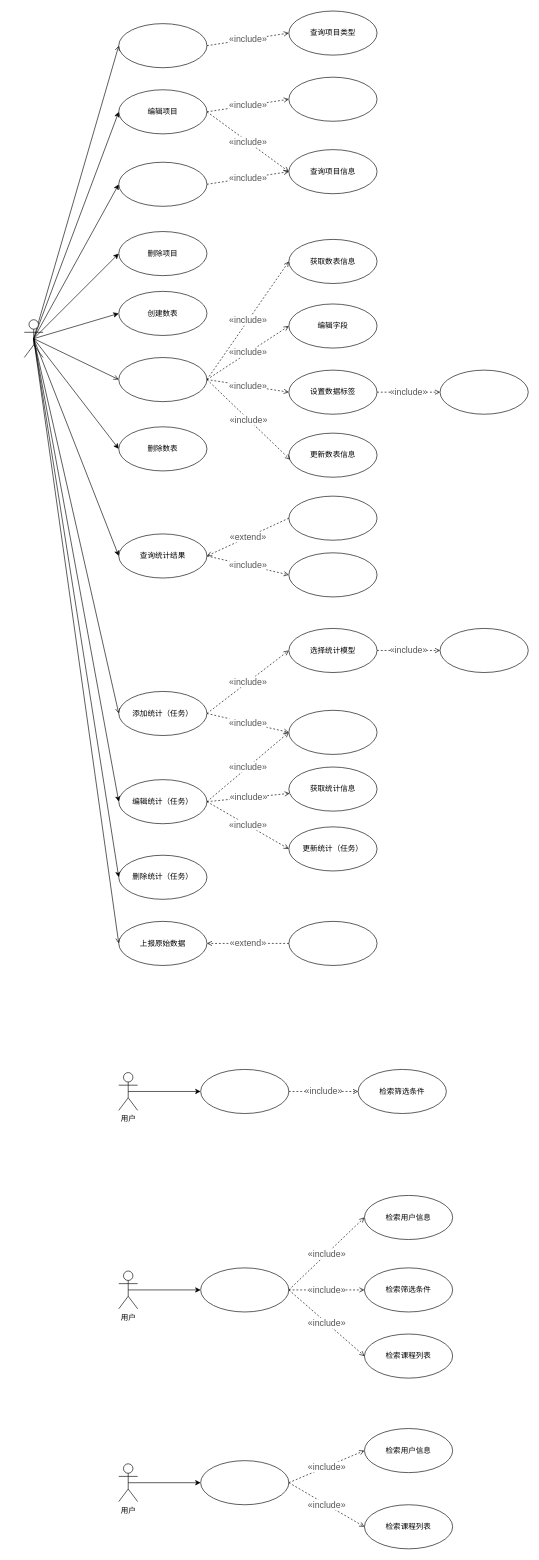
Image size: 539x1560. Some labels were removed from this diagram. Each missing label, with the box of its shape:
创建项目: (118, 23, 207, 68)
搜索「我的授课」: (200, 1460, 289, 1505)
更新项目信息: (288, 77, 377, 121)
查询统计数据: (288, 552, 377, 597)
浏览「我的授课」: (200, 1267, 289, 1312)
租户（用户）: (24, 319, 43, 358)
编辑数表: (118, 357, 207, 402)
编辑统计规则: (288, 710, 377, 754)
获取上报物料: (288, 921, 377, 965)
获取数据标签列表: (439, 369, 528, 414)
获取统计模型列表: (439, 628, 528, 673)
获取项目信息: (118, 162, 207, 206)
设置筛选条件: (288, 495, 377, 540)
配置筛选条件: (200, 1069, 289, 1114)
